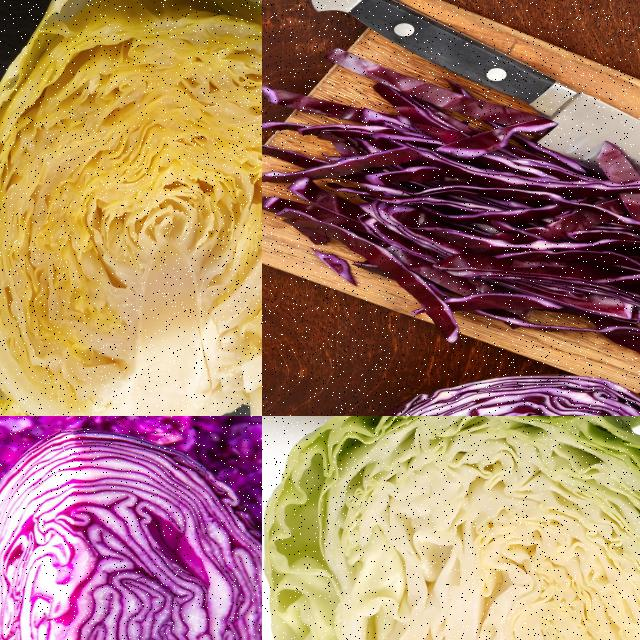cabbage: (0, 0, 261, 415), (262, 416, 639, 639), (0, 435, 261, 639)
